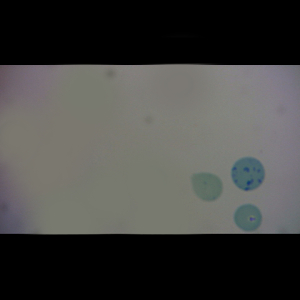aggregate reticulocyte: (231, 157, 265, 191)
erythrocyte: (233, 204, 263, 232)
punctate reticulocyte: (189, 171, 223, 202)
